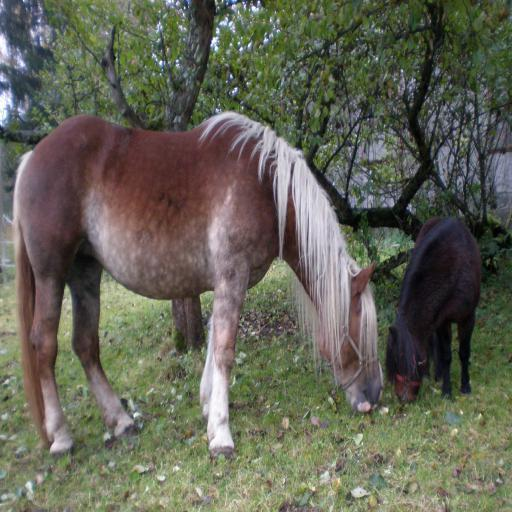horse: (15, 107, 386, 462), (385, 214, 483, 406)
